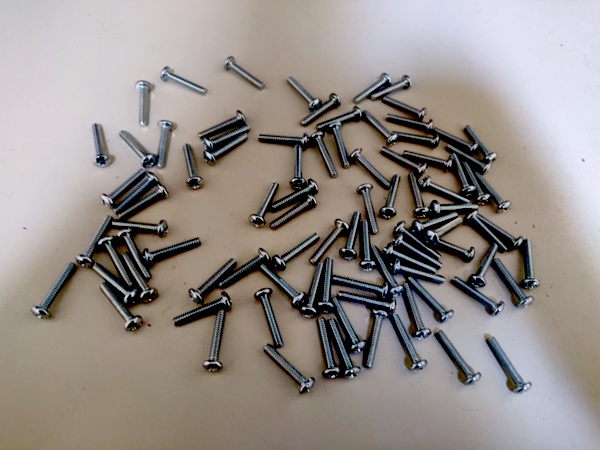longscrew: (446, 266, 504, 314), (432, 331, 482, 385), (30, 263, 76, 319), (485, 338, 531, 394), (258, 349, 315, 393), (191, 257, 237, 304), (395, 215, 443, 260), (88, 263, 139, 305), (386, 315, 424, 371), (330, 296, 366, 355), (404, 276, 450, 322), (324, 318, 358, 380), (494, 252, 531, 307), (256, 265, 305, 306), (100, 284, 143, 330), (76, 214, 114, 266), (221, 246, 269, 287), (477, 208, 525, 249), (173, 292, 232, 325), (384, 241, 441, 275), (276, 226, 320, 270), (396, 284, 431, 337), (390, 234, 443, 269), (467, 211, 510, 254), (346, 150, 393, 189), (312, 319, 342, 380), (253, 290, 284, 349), (420, 171, 471, 206), (117, 230, 154, 278), (98, 236, 135, 284), (122, 251, 159, 299), (425, 226, 474, 262), (100, 168, 144, 208), (114, 174, 158, 214), (368, 245, 403, 295), (122, 180, 165, 220), (390, 255, 449, 284), (473, 233, 502, 291), (308, 220, 348, 262), (476, 168, 514, 212), (271, 195, 317, 231), (330, 270, 390, 297), (203, 305, 226, 373), (338, 289, 398, 315), (248, 182, 279, 230), (445, 143, 493, 174), (309, 129, 338, 179), (363, 310, 386, 373), (226, 55, 266, 91), (205, 133, 249, 165), (145, 238, 201, 263), (379, 147, 429, 175), (392, 123, 442, 151), (273, 178, 318, 209), (462, 159, 492, 204), (462, 125, 499, 161), (385, 106, 434, 133), (161, 67, 210, 93), (355, 186, 381, 235), (361, 105, 395, 142), (353, 71, 391, 104), (373, 69, 411, 102), (404, 148, 456, 172), (304, 262, 326, 318), (117, 133, 154, 166), (429, 127, 482, 150), (426, 212, 464, 244), (412, 212, 462, 236), (304, 93, 340, 126), (519, 238, 541, 292), (381, 94, 426, 120), (200, 110, 243, 137), (205, 124, 250, 149), (356, 218, 376, 274), (314, 107, 362, 129), (448, 155, 474, 195), (404, 171, 426, 218), (284, 78, 319, 107), (328, 124, 351, 168), (341, 209, 361, 259), (181, 142, 202, 188), (113, 217, 168, 234), (383, 169, 401, 219), (429, 198, 484, 214), (320, 258, 336, 312), (90, 123, 109, 168), (289, 142, 306, 192), (259, 131, 308, 147), (137, 80, 151, 127), (157, 121, 171, 168)
